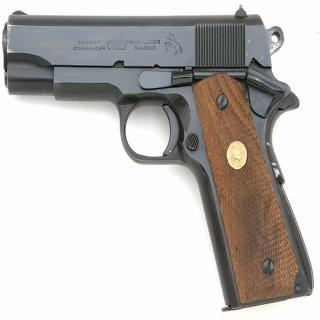gun: (3, 5, 314, 309)
